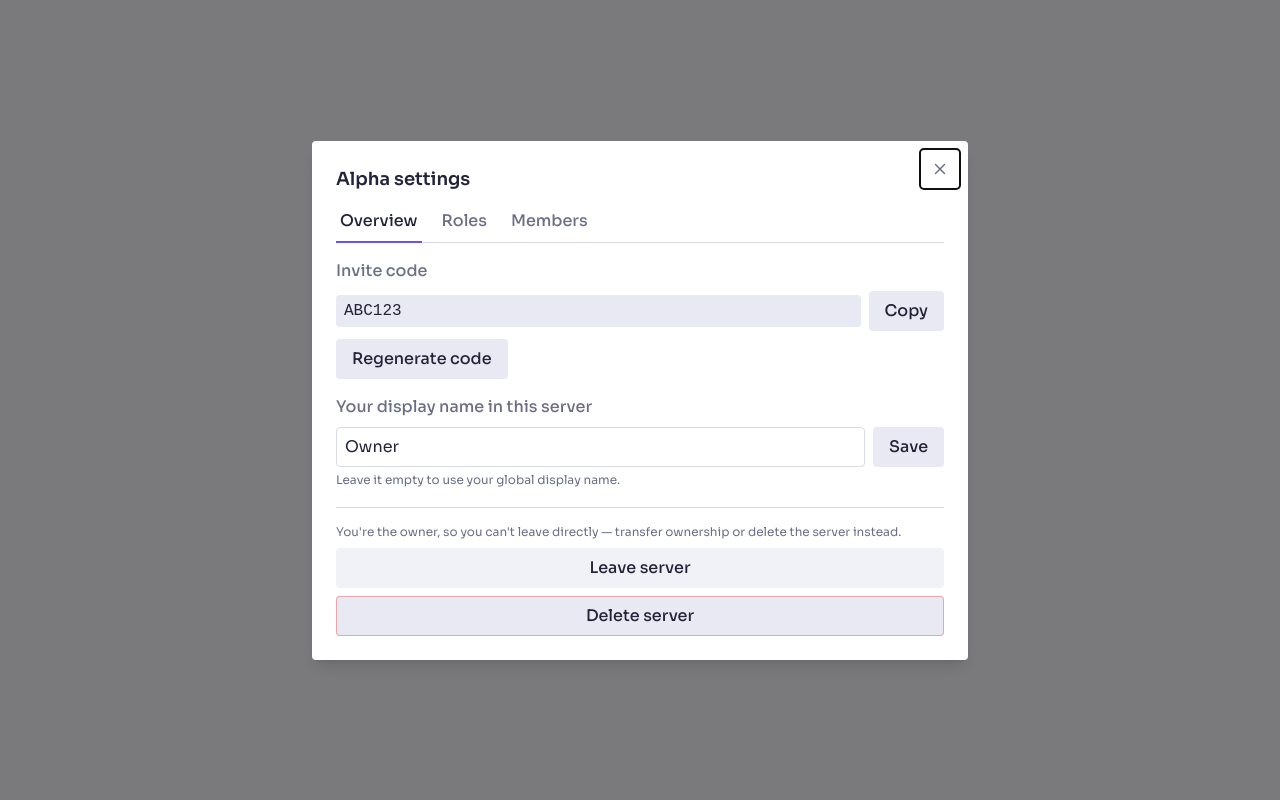
Test: ServerSettingsPanel › shows the Roles tab when MANAGE_ROLES is held, rendering RolesTab inside it
Expected: the text "ABC123" is shown, [336,294,861,326]
Click the button "Roles" at coordinates (464, 226), box [438,208,491,242]
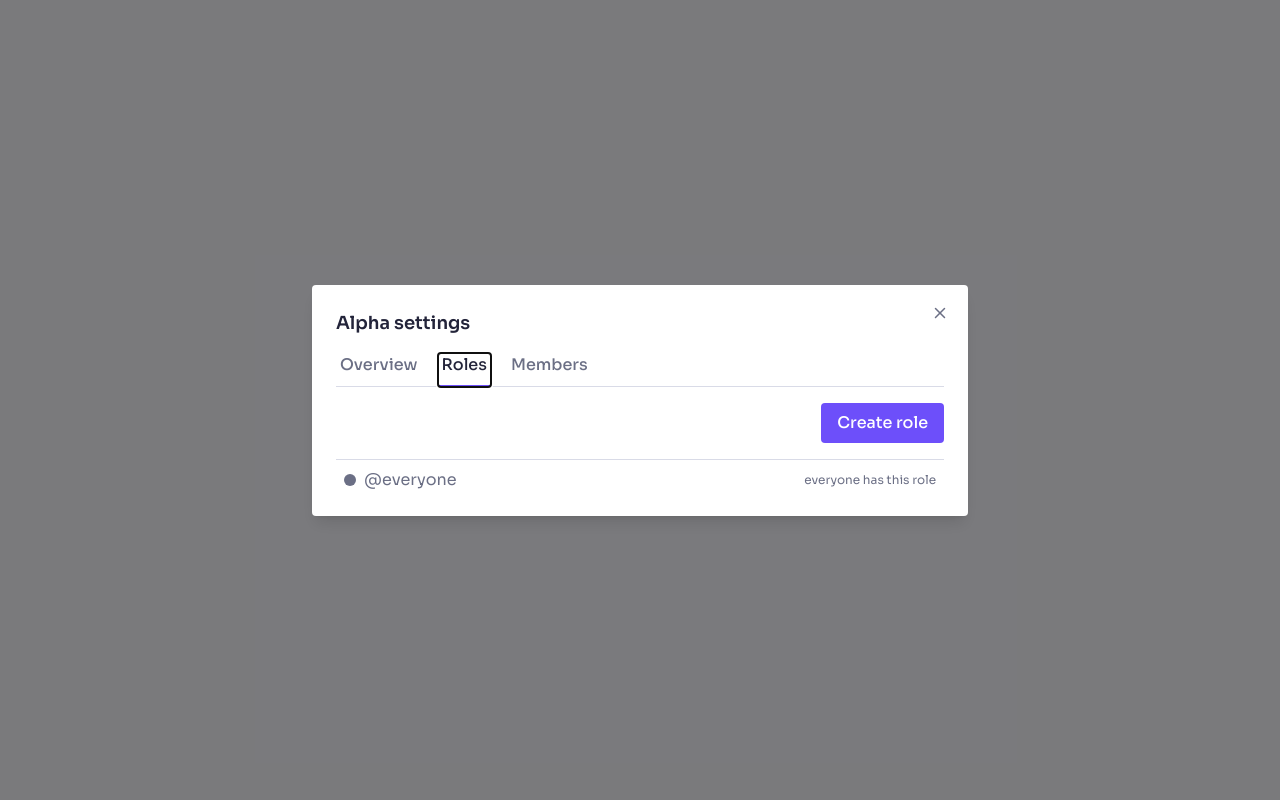
Result: the button "Create role" is shown at [821,402,944,442]
Result: the text "@everyone" is shown at [344,468,456,492]
